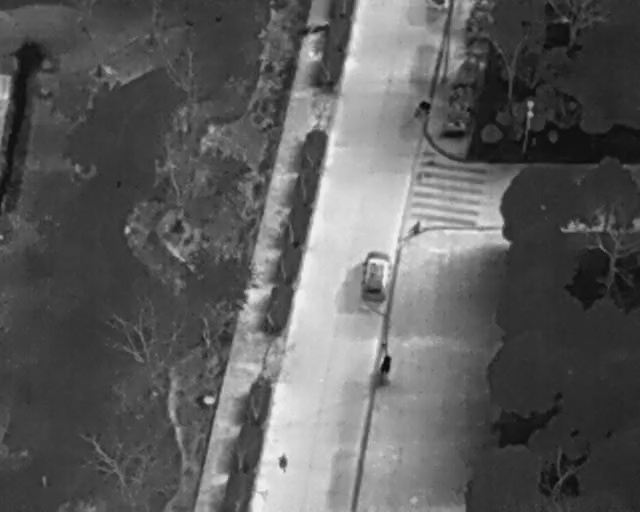Car: (359, 249, 392, 306)
Person: (277, 450, 287, 475)
